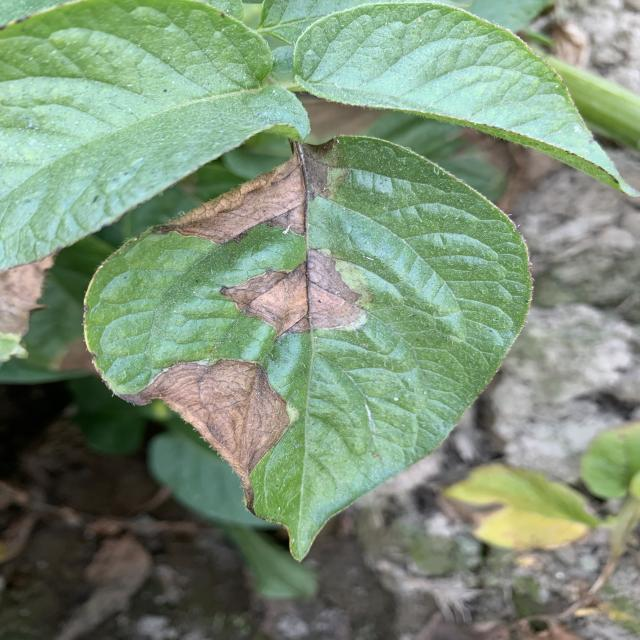lateblight: (122, 360, 290, 510), (152, 144, 327, 244), (220, 249, 363, 338), (0, 252, 55, 362)
